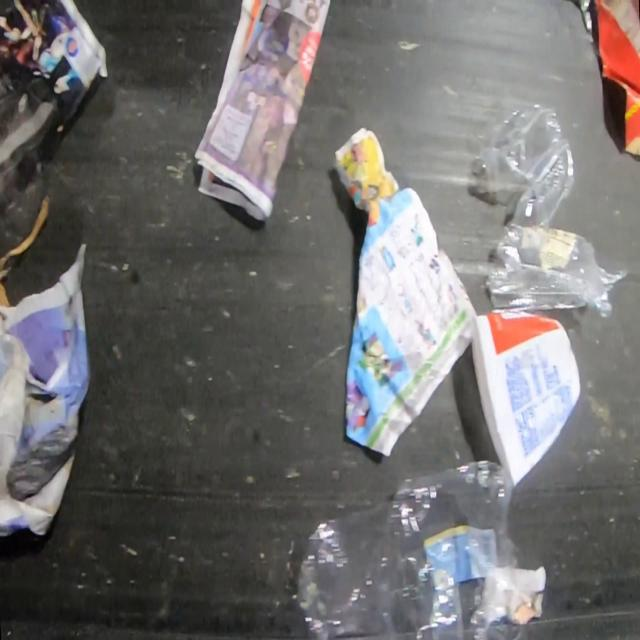cardboard: (595, 0, 640, 159)
rigid_plastic: (468, 103, 628, 319), (470, 310, 582, 487)
soft_plastic: (296, 458, 524, 640)
